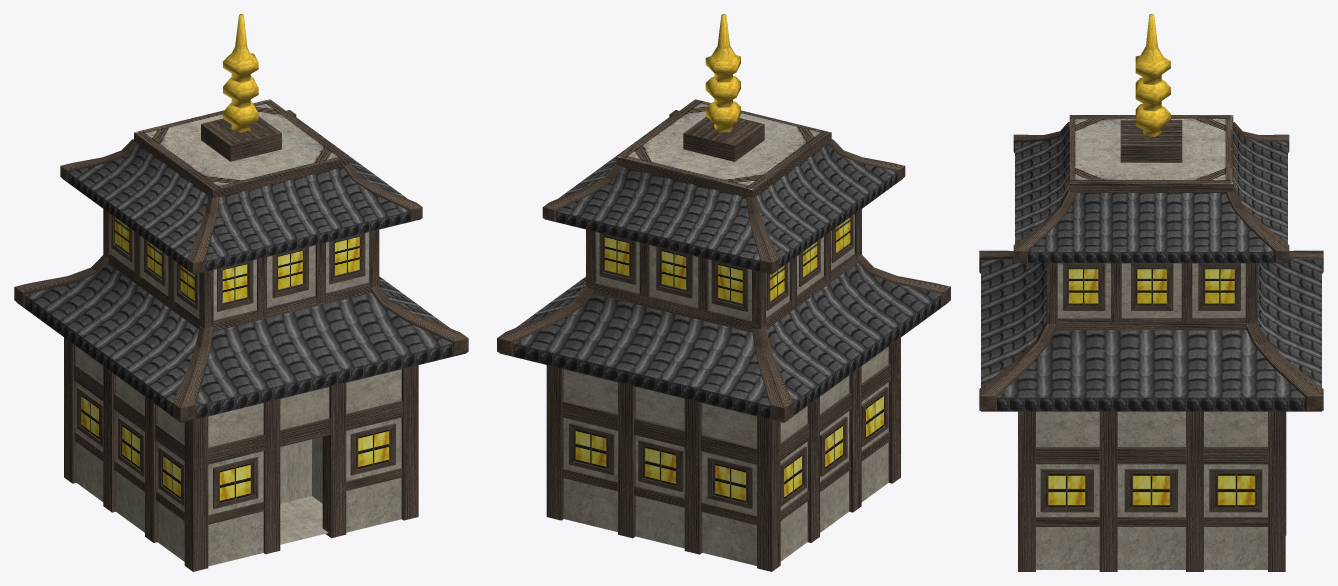
The model's file is casa-oriental-01-c.fbx.
3 views of the same model, side by side, from view 1: azimuth 30°, elevation 25°; view 2: azimuth 150°, elevation 25°; view 3: azimuth 270°, elevation 25° (orthographic). The views are drawn at different scales.
Visible parts, largest first — view 1: Cube.000, Cube.002, Cube.001; view 2: Cube.000, Cube.002; view 3: Cube.000, Cube.002.
Boxes of the visible parts, x1,y1,x2,y2 form: Cube.000: (14,14,468,571); Cube.002: (80,217,390,502); Cube.001: (280,437,328,544); Cube.000: (497,14,950,571); Cube.002: (573,217,884,503); Cube.000: (979,14,1323,571); Cube.002: (1046,268,1256,507).
Size of the model in its own units: 5.37 by 8.61 by 5.37.
